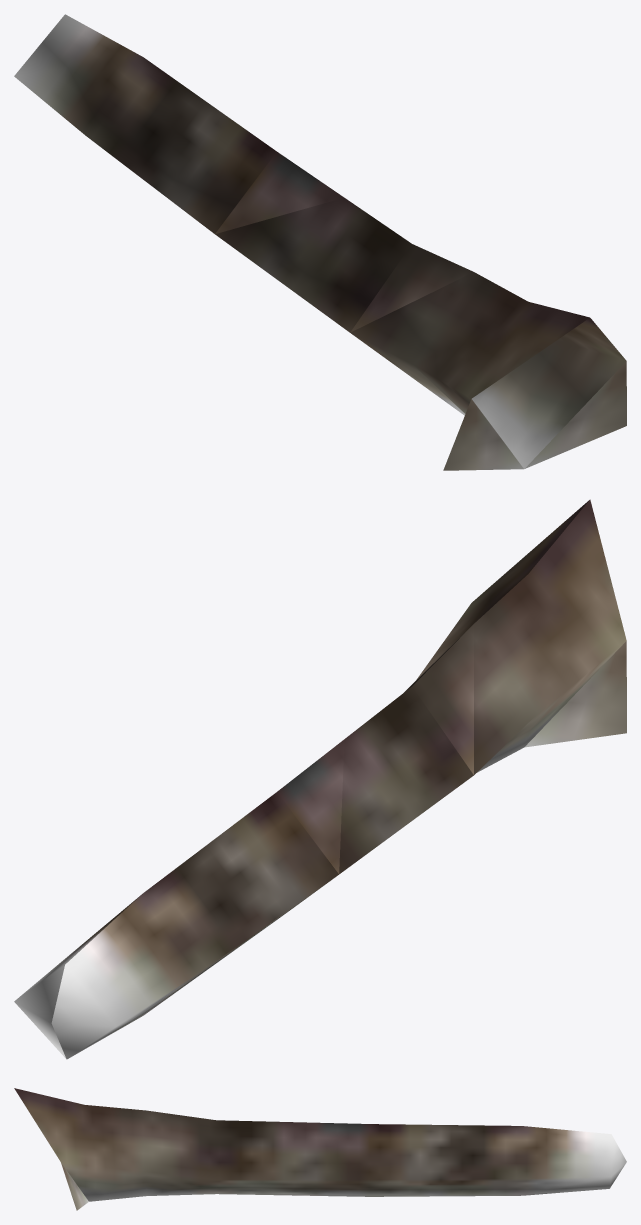
The model's file is tail.obj.
The picture shows the model from 3 angles, top to bottom: view 1: azimuth 30°, elevation 25°; view 2: azimuth 150°, elevation 25°; view 3: azimuth 270°, elevation 25°; orthographic projection. The views are drawn at different scales.
Parts seen in each view (by area): view 1: vsn_mesh_2__mesh_2_.007; view 2: vsn_mesh_2__mesh_2_.007; view 3: vsn_mesh_2__mesh_2_.007.
Part boxes in pixels (x1,y1,x2,y2): vsn_mesh_2__mesh_2_.007: [14, 14, 626, 470]; vsn_mesh_2__mesh_2_.007: [14, 499, 626, 1059]; vsn_mesh_2__mesh_2_.007: [14, 1088, 626, 1210].
Size of the model in its own units: 0.4743 by 0.493 by 2.41.
Materials: 2 (2 with a texture image).
